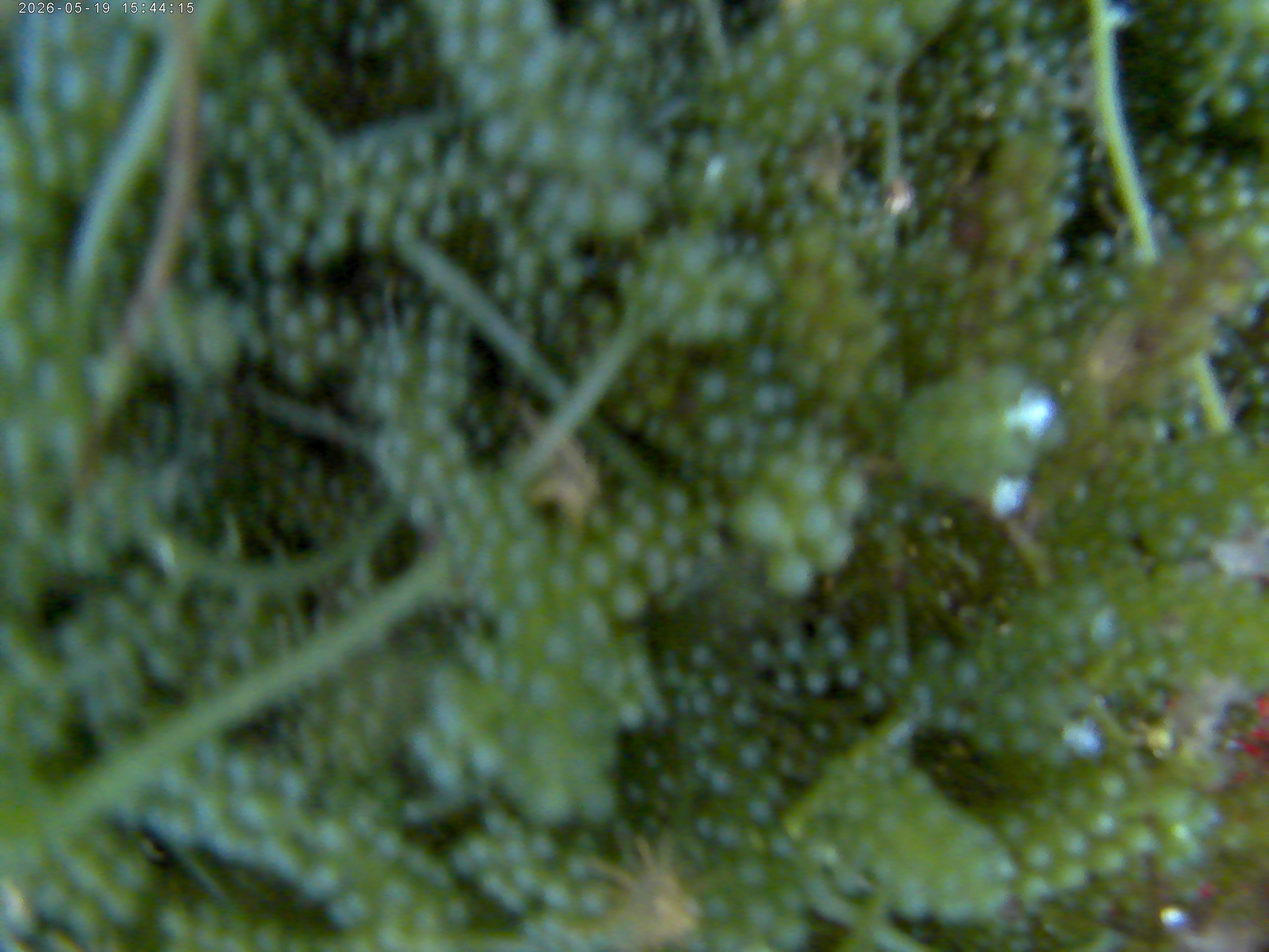Darkening: (952, 214, 989, 251), (1027, 61, 1050, 85), (1006, 43, 1030, 66), (957, 603, 980, 625), (949, 742, 968, 761)
Harvestable: (735, 493, 781, 541), (763, 547, 811, 593), (607, 188, 650, 238), (581, 95, 628, 133), (573, 137, 616, 178), (817, 525, 855, 569), (522, 127, 563, 166), (159, 810, 201, 848), (579, 552, 619, 591), (626, 145, 664, 185), (516, 7, 559, 42), (519, 56, 554, 99), (249, 794, 289, 831), (794, 507, 831, 546), (299, 860, 341, 894), (832, 473, 868, 511), (606, 530, 644, 566), (768, 915, 808, 949), (355, 217, 392, 253), (159, 905, 195, 942), (373, 914, 412, 948), (471, 742, 510, 776), (207, 828, 248, 860), (790, 25, 825, 62), (1051, 822, 1088, 857), (439, 30, 474, 67), (472, 80, 507, 117), (281, 352, 316, 389), (569, 595, 603, 633), (547, 630, 581, 668), (289, 184, 325, 219), (545, 562, 579, 599), (477, 30, 516, 62), (761, 450, 796, 485), (268, 841, 302, 877), (830, 4, 866, 38), (790, 473, 825, 507), (430, 760, 465, 794), (484, 117, 517, 153), (383, 871, 415, 908), (569, 196, 601, 233), (575, 888, 613, 919), (612, 583, 645, 618), (541, 874, 576, 907), (703, 411, 736, 446), (1035, 335, 1070, 368), (1091, 845, 1128, 876), (374, 826, 407, 860), (516, 249, 544, 289), (766, 237, 798, 272), (1221, 434, 1253, 469), (407, 492, 438, 528), (770, 882, 806, 913), (1092, 770, 1125, 803), (902, 768, 935, 801), (659, 277, 692, 310), (1212, 86, 1244, 120), (223, 214, 255, 248), (833, 47, 864, 82), (401, 182, 436, 213), (762, 53, 793, 88), (223, 757, 252, 794), (706, 923, 743, 952), (1085, 807, 1118, 839), (1010, 724, 1043, 756), (997, 691, 1029, 724), (1072, 577, 1104, 610), (320, 821, 351, 855), (740, 897, 774, 928), (736, 852, 767, 886), (442, 368, 469, 407), (280, 771, 309, 807), (247, 103, 276, 139), (439, 894, 471, 926), (1207, 50, 1239, 82), (364, 188, 396, 220), (842, 791, 874, 823), (504, 540, 535, 573), (246, 183, 279, 214), (1021, 872, 1054, 903), (478, 868, 509, 901), (920, 634, 951, 667), (792, 358, 823, 391), (264, 131, 295, 164), (1186, 468, 1219, 499), (419, 404, 453, 434), (328, 152, 362, 182), (318, 219, 349, 251), (466, 835, 497, 867), (124, 568, 155, 600), (1104, 506, 1135, 538), (116, 792, 145, 826), (1054, 861, 1088, 890), (881, 39, 912, 70), (1169, 509, 1200, 540), (803, 68, 833, 100), (225, 127, 255, 159), (468, 487, 493, 525), (1001, 812, 1031, 843), (1156, 851, 1187, 881), (1030, 303, 1059, 335), (588, 1, 617, 33), (314, 333, 341, 367), (406, 134, 436, 164), (1086, 892, 1116, 922), (627, 503, 657, 533), (1009, 85, 1040, 114), (661, 487, 690, 518), (699, 371, 728, 402), (616, 698, 645, 729), (278, 312, 307, 343), (529, 830, 558, 861), (1166, 819, 1195, 850), (992, 288, 1021, 319), (448, 466, 476, 498), (376, 149, 404, 181), (514, 576, 541, 609), (1192, 191, 1222, 220), (558, 259, 588, 288), (1143, 651, 1172, 681), (684, 130, 713, 160), (703, 893, 733, 922), (646, 382, 676, 411), (753, 384, 781, 415), (1045, 196, 1076, 224), (472, 548, 500, 579), (1022, 840, 1054, 867), (306, 296, 332, 329), (1244, 223, 1269, 257), (1101, 278, 1130, 307), (512, 864, 541, 893), (479, 520, 507, 550), (477, 0, 512, 24), (1016, 272, 1046, 300), (479, 585, 506, 616), (1180, 111, 1208, 140), (715, 822, 744, 850), (402, 797, 431, 825), (923, 335, 951, 364), (386, 467, 413, 497), (263, 247, 290, 277), (393, 213, 420, 243), (1123, 826, 1155, 851), (375, 386, 403, 414), (1063, 786, 1091, 814), (444, 144, 471, 173), (722, 97, 749, 126), (539, 289, 566, 318), (643, 544, 670, 573), (818, 335, 845, 364), (478, 189, 505, 218), (548, 231, 574, 261), (759, 21, 782, 54), (497, 482, 524, 510), (801, 100, 828, 128), (427, 208, 455, 235), (1054, 269, 1081, 297), (950, 659, 977, 687), (770, 416, 797, 444), (564, 852, 591, 880), (1120, 661, 1147, 689), (745, 77, 772, 105), (734, 48, 760, 77), (886, 650, 912, 679), (1042, 744, 1071, 770), (823, 436, 849, 465), (196, 736, 216, 773), (389, 433, 416, 460), (1216, 215, 1243, 242), (945, 250, 972, 277), (749, 347, 775, 375), (661, 520, 687, 548), (187, 262, 213, 290), (848, 746, 873, 775), (703, 157, 728, 186), (285, 218, 309, 248), (747, 796, 774, 822), (858, 684, 884, 711), (1228, 187, 1255, 213), (505, 172, 531, 199), (590, 302, 616, 329), (1046, 117, 1071, 145), (589, 507, 614, 535), (1245, 53, 1269, 82), (455, 534, 478, 564), (442, 435, 468, 461), (671, 554, 697, 580), (697, 533, 722, 560), (768, 830, 793, 857), (1143, 688, 1168, 715), (429, 304, 454, 331), (977, 729, 1004, 754), (502, 886, 526, 914), (735, 447, 759, 475), (424, 369, 447, 398), (331, 897, 354, 926), (737, 740, 760, 769), (1223, 165, 1249, 190), (979, 51, 1004, 77), (1006, 0, 1032, 25), (1123, 893, 1149, 918), (782, 122, 808, 147), (339, 316, 363, 343), (1033, 6, 1057, 33), (622, 402, 646, 429), (779, 637, 804, 662), (1165, 191, 1190, 216), (266, 284, 291, 309), (444, 510, 468, 536), (703, 500, 727, 526), (1063, 643, 1089, 667), (822, 634, 849, 657), (448, 340, 472, 365), (761, 107, 786, 131), (709, 770, 734, 794), (694, 753, 718, 778), (698, 720, 723, 744), (937, 705, 961, 730), (1068, 481, 1092, 506), (759, 774, 783, 799), (872, 232, 896, 257), (426, 337, 450, 362), (871, 288, 896, 312), (833, 194, 857, 219), (1192, 170, 1215, 196), (1147, 418, 1170, 444), (1169, 156, 1193, 180), (662, 665, 686, 689), (1162, 536, 1186, 560), (1121, 749, 1145, 773), (999, 117, 1023, 141), (1178, 882, 1202, 906), (1047, 38, 1070, 63), (771, 145, 794, 170), (657, 11, 680, 36), (816, 615, 843, 636), (710, 674, 734, 697), (935, 307, 958, 331), (1191, 531, 1214, 555), (994, 858, 1018, 881), (1030, 630, 1054, 653), (793, 204, 817, 227), (741, 422, 765, 445), (779, 173, 802, 197), (901, 287, 924, 311), (1174, 646, 1198, 669), (647, 570, 670, 594), (1145, 474, 1168, 498), (715, 63, 737, 88), (1175, 407, 1198, 430), (985, 79, 1008, 102), (909, 311, 932, 334), (1032, 798, 1055, 821), (775, 754, 798, 777), (858, 196, 881, 219), (733, 700, 755, 724), (1116, 636, 1138, 660), (494, 274, 515, 299), (1249, 277, 1269, 303), (752, 639, 774, 662), (910, 681, 933, 703), (973, 127, 995, 150), (512, 299, 534, 322), (870, 762, 893, 784), (889, 752, 912, 774), (1061, 147, 1083, 170), (612, 819, 635, 841), (618, 487, 640, 510), (785, 2, 809, 23), (776, 673, 797, 697), (348, 28, 369, 52), (645, 417, 666, 441), (971, 0, 997, 19), (421, 454, 443, 476), (695, 814, 717, 836), (1043, 241, 1065, 263), (683, 672, 705, 694), (1247, 365, 1269, 387), (870, 520, 892, 542), (1108, 877, 1130, 899), (1237, 306, 1259, 328), (616, 262, 638, 284), (875, 13, 896, 36), (976, 27, 997, 50), (890, 501, 911, 524), (1178, 70, 1201, 91), (777, 386, 798, 409), (807, 670, 827, 694), (870, 625, 889, 650), (839, 665, 860, 687), (691, 646, 713, 667), (919, 514, 940, 536), (1181, 143, 1203, 164), (950, 75, 972, 96), (958, 712, 979, 734), (767, 210, 788, 232), (694, 694, 714, 717), (1007, 934, 1032, 952), (658, 772, 679, 793), (1060, 171, 1081, 192), (889, 652, 909, 674), (1090, 304, 1112, 324), (575, 831, 597, 851), (401, 305, 421, 327), (950, 127, 970, 148), (810, 722, 831, 742), (1057, 377, 1077, 398), (927, 179, 947, 200), (848, 118, 868, 139), (918, 74, 938, 95), (1192, 559, 1212, 580), (1141, 144, 1161, 165), (1241, 578, 1262, 598), (997, 622, 1018, 642), (905, 135, 925, 156), (475, 426, 494, 448), (381, 831, 397, 857), (933, 153, 953, 173), (1058, 302, 1077, 323), (1012, 916, 1033, 935), (957, 99, 978, 118), (1093, 237, 1111, 259), (936, 208, 956, 227), (1182, 381, 1201, 401), (428, 866, 446, 887), (1206, 155, 1226, 173), (643, 750, 661, 770), (1256, 185, 1269, 212), (681, 10, 698, 30), (742, 236, 759, 255), (357, 0, 377, 16), (1255, 387, 1269, 409), (674, 695, 691, 713), (1166, 33, 1184, 50), (618, 0, 639, 13), (1071, 548, 1087, 564)
